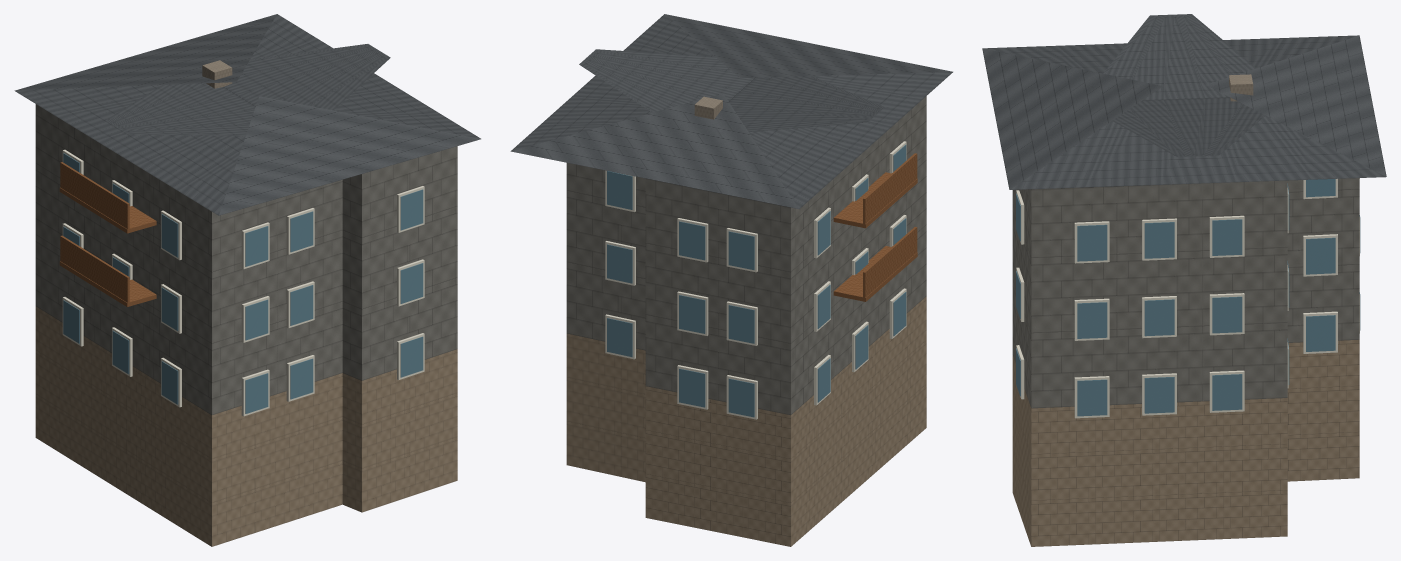
The model's file is core_0122.gltf.
The picture shows the model from 3 angles, left to right: view 1: azimuth 30°, elevation 25°; view 2: azimuth 150°, elevation 25°; view 3: azimuth 270°, elevation 25°; orthographic projection. The views are drawn at different scales.
Visible parts, largest first — view 1: core_0122; view 2: core_0122; view 3: core_0122.
Part boxes in pixels (<box>): core_0122: <box>14,14,480,546</box>; core_0122: <box>510,14,952,546</box>; core_0122: <box>982,14,1386,546</box>.
Bounding box in the file's own units: 12.63 × 14.55 × 13.5.
7 materials, 7 textured.
